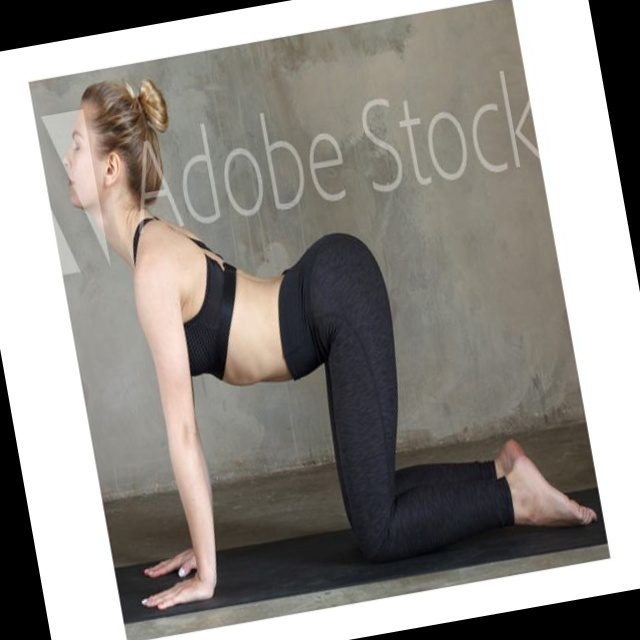Cow_Pose: (62, 80, 598, 609)
